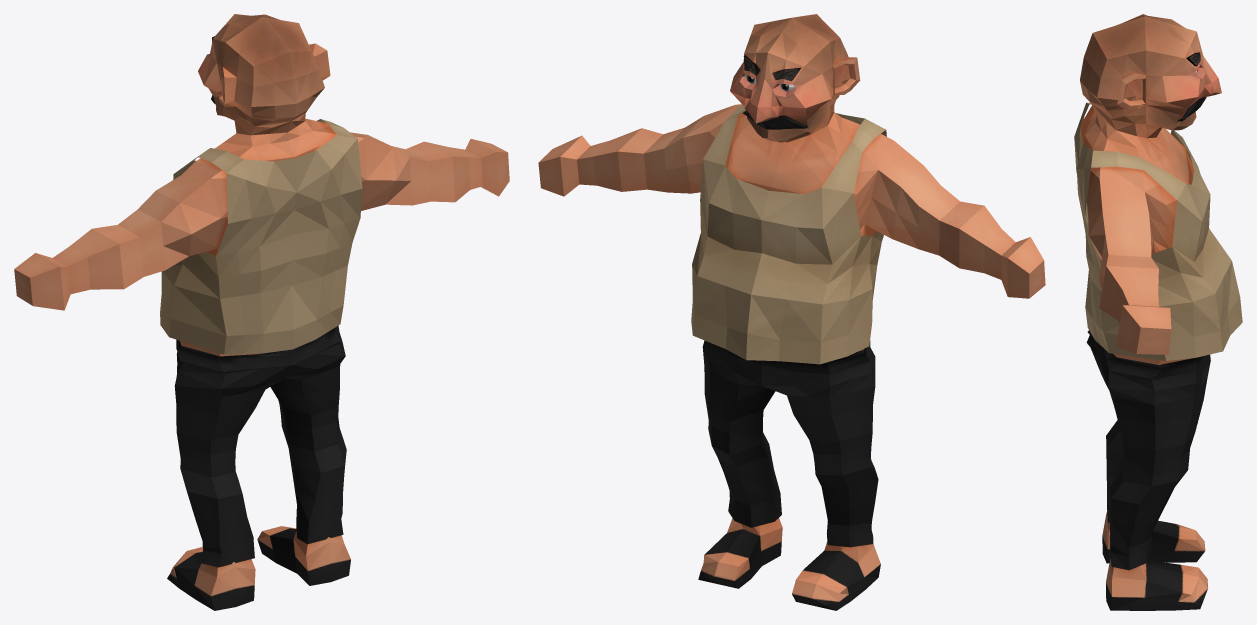
The model's file is pendu3.gltf.
The picture shows the model from 3 angles, left to right: view 1: azimuth 30°, elevation 25°; view 2: azimuth 150°, elevation 25°; view 3: azimuth 270°, elevation 25°; orthographic projection.
Visible parts, largest first — view 1: Cube.018; view 2: Cube.018; view 3: Cube.018.
Part boxes in pixels (left/top/right/bottom): Cube.018: left=14, top=14, right=509, bottom=610; Cube.018: left=538, top=14, right=1045, bottom=610; Cube.018: left=1074, top=14, right=1242, bottom=610.
Size of the model in its own units: 2.26 by 2.49 by 0.6791.
Materials: 1 (1 with a texture image).
